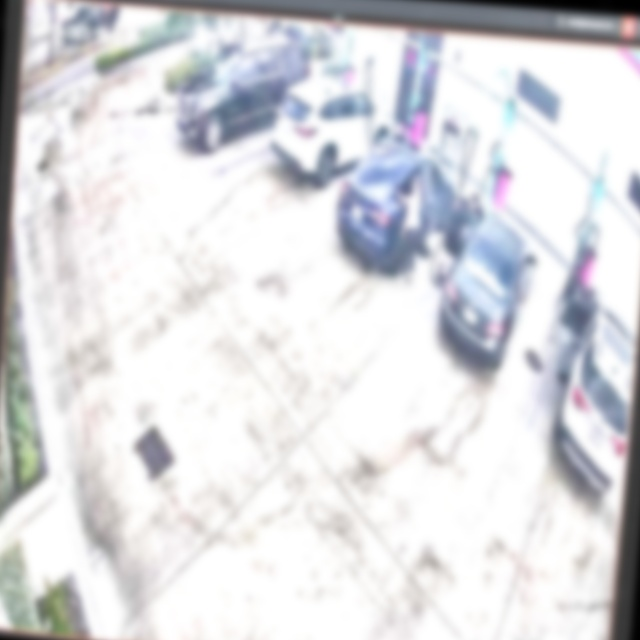Car: (330, 134, 462, 275), (434, 204, 543, 371), (269, 68, 400, 189)
